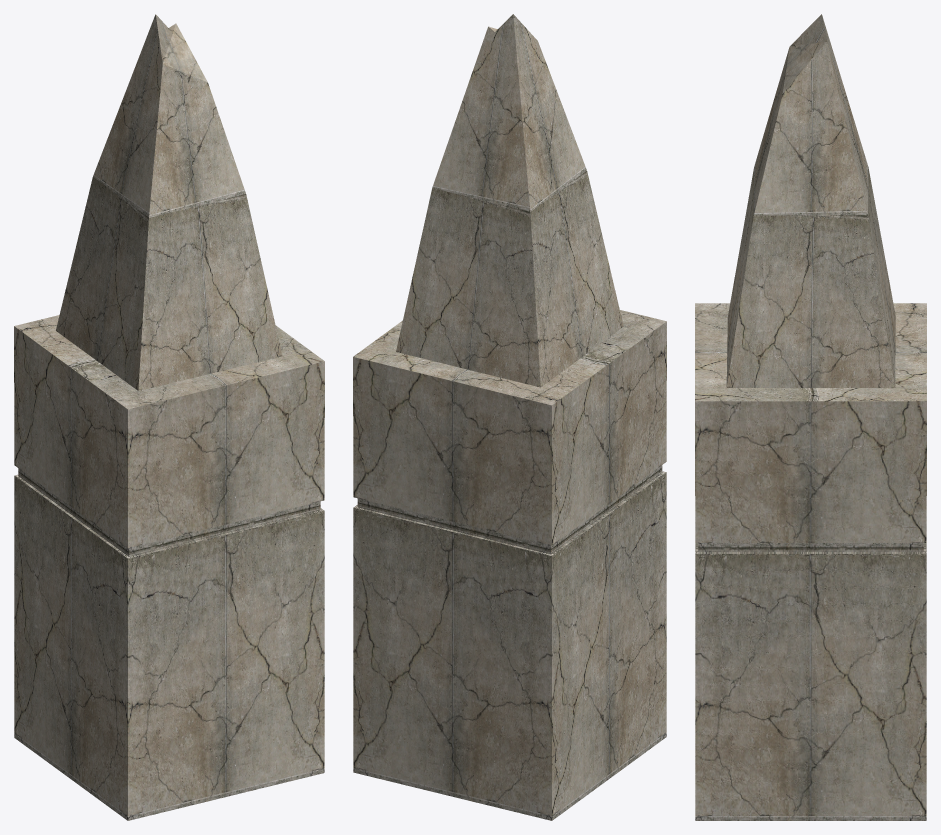
Rendered from poi_all_monolith_s01_l1.fbx.
3 renders of one model, left to right at view 1: azimuth 30°, elevation 25°; view 2: azimuth 150°, elevation 25°; view 3: azimuth 270°, elevation 25°, orthographic.
Parts seen in each view (by area): view 1: mesh_node; view 2: mesh_node; view 3: mesh_node.
Boxes of the visible parts, x1,y1,x2,y2 form: mesh_node: (14,14,324,820); mesh_node: (353,14,666,820); mesh_node: (695,14,926,820).
Size of the model in its own units: 10.02 by 35.93 by 10.02.
